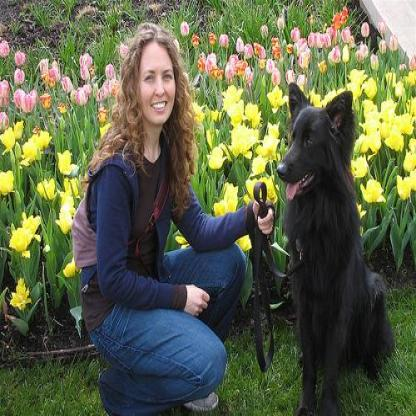groenendael: (276, 82, 393, 412)
